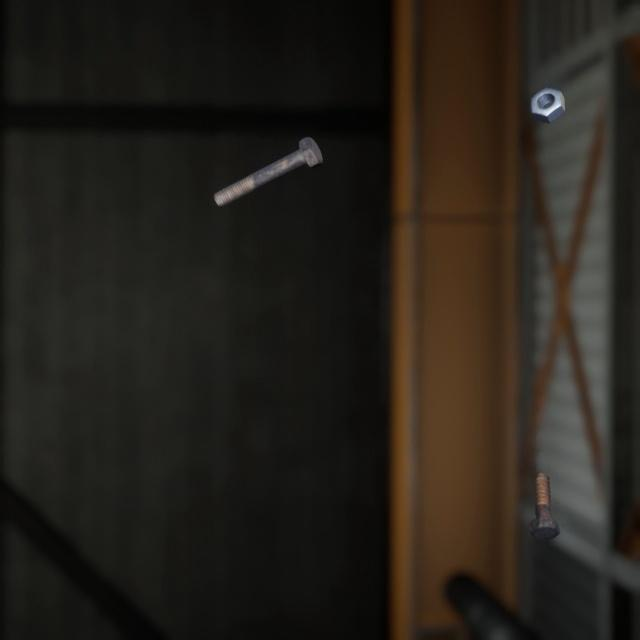bolt: (209, 117, 327, 197), (525, 447, 564, 523)
nut: (526, 71, 569, 116)
